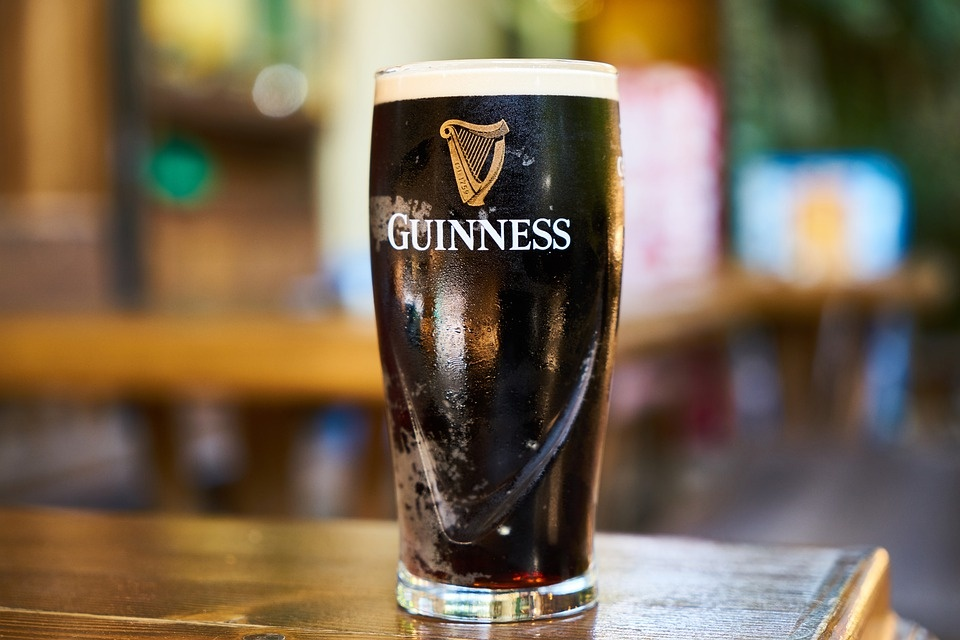glassBeer: (364, 62, 617, 625)
